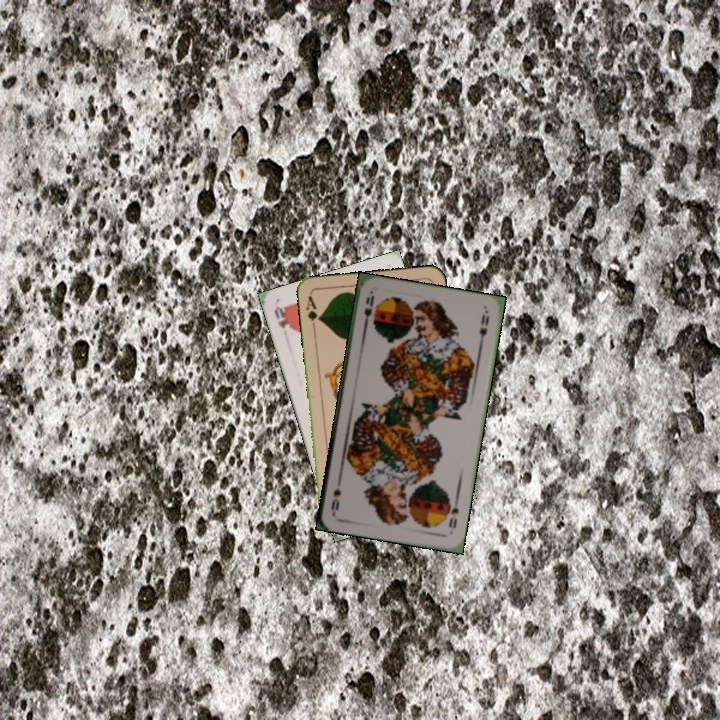GA: (302, 292, 323, 332)
HO: (270, 303, 292, 332)
SO: (360, 289, 376, 330), (445, 495, 461, 531)
